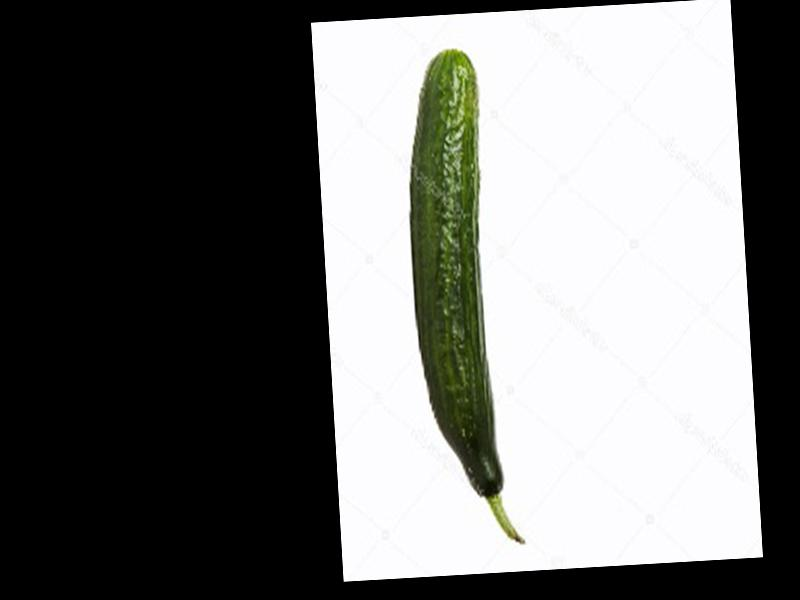Cucumber: (401, 49, 524, 552)
